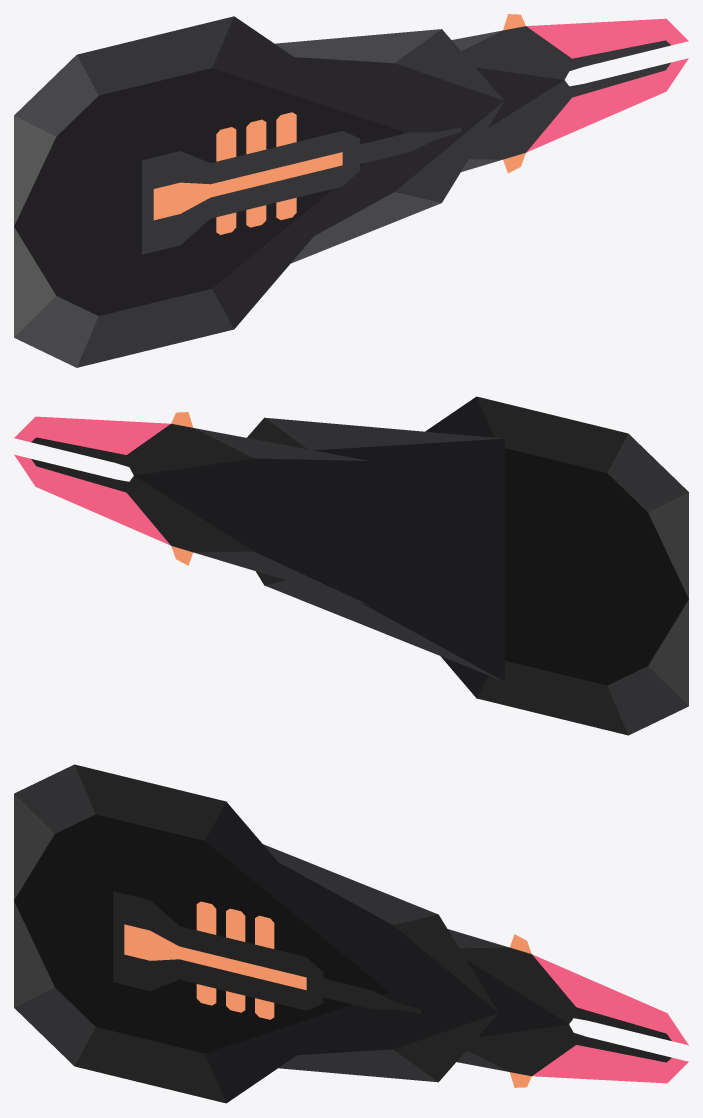
The model's file is CannonVisual.glb.
3 views of the same model, one above another, from view 1: azimuth 30°, elevation 25°; view 2: azimuth 150°, elevation 25°; view 3: azimuth 330°, elevation 25° (orthographic). The views are drawn at different scales.
Visible parts, largest first — view 1: CannonVisual, CannonVisual.001, CannonVisual.002, CannonVisual.003, CannonVisual.004; view 2: CannonVisual, CannonVisual.002, CannonVisual.001; view 3: CannonVisual, CannonVisual.001, CannonVisual.002, CannonVisual.003, CannonVisual.004.
Boxes of the visible parts, x1,y1,x2,y2 form: CannonVisual: (14,16,403,367); CannonVisual.001: (275,29,504,263); CannonVisual.002: (452,14,688,173); CannonVisual.003: (142,127,461,254); CannonVisual.004: (216,112,296,234); CannonVisual: (425,396,688,735); CannonVisual.002: (14,412,369,605); CannonVisual.001: (247,417,504,681); CannonVisual: (14,764,389,1103); CannonVisual.001: (263,844,498,1082); CannonVisual.002: (448,929,688,1087); CannonVisual.003: (113,891,421,1013); CannonVisual.004: (196,901,274,1019).
Bounding box in the file's own units: 63.23 × 27.53 × 4.
